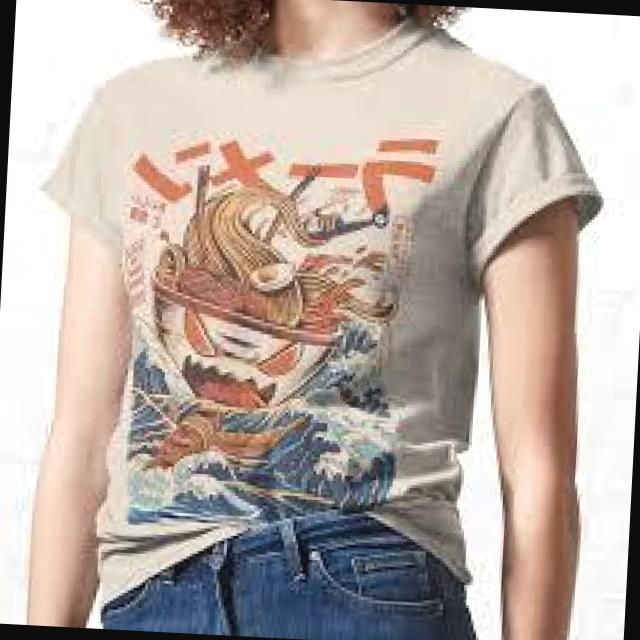Tshirt: (7, 0, 616, 637)
